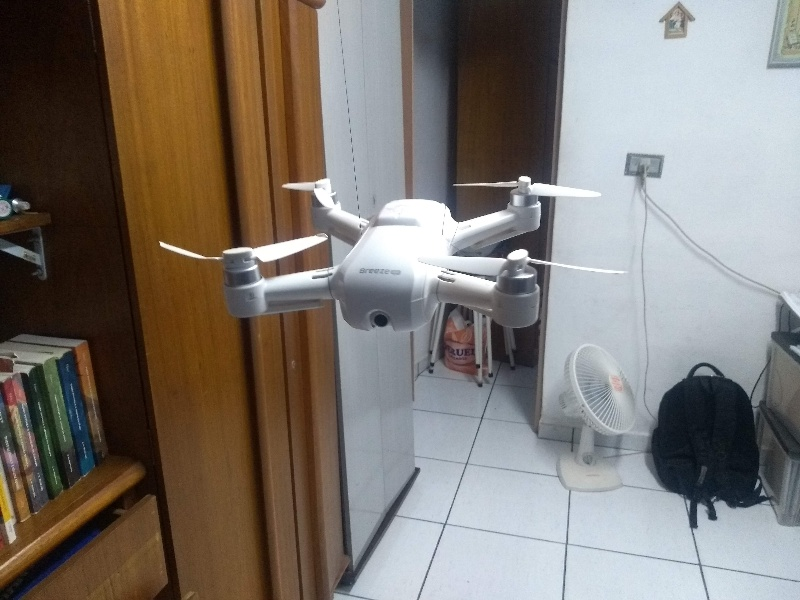drone: (166, 167, 596, 333)
